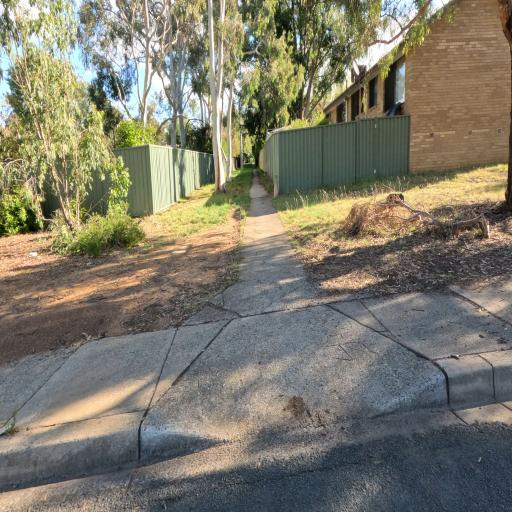kerb_cut: (219, 367, 416, 482)
